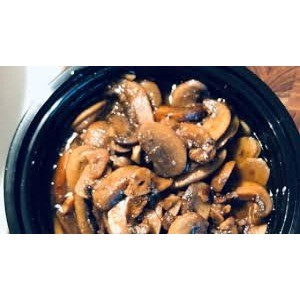mushroom_brain food: (76, 112, 239, 222)
